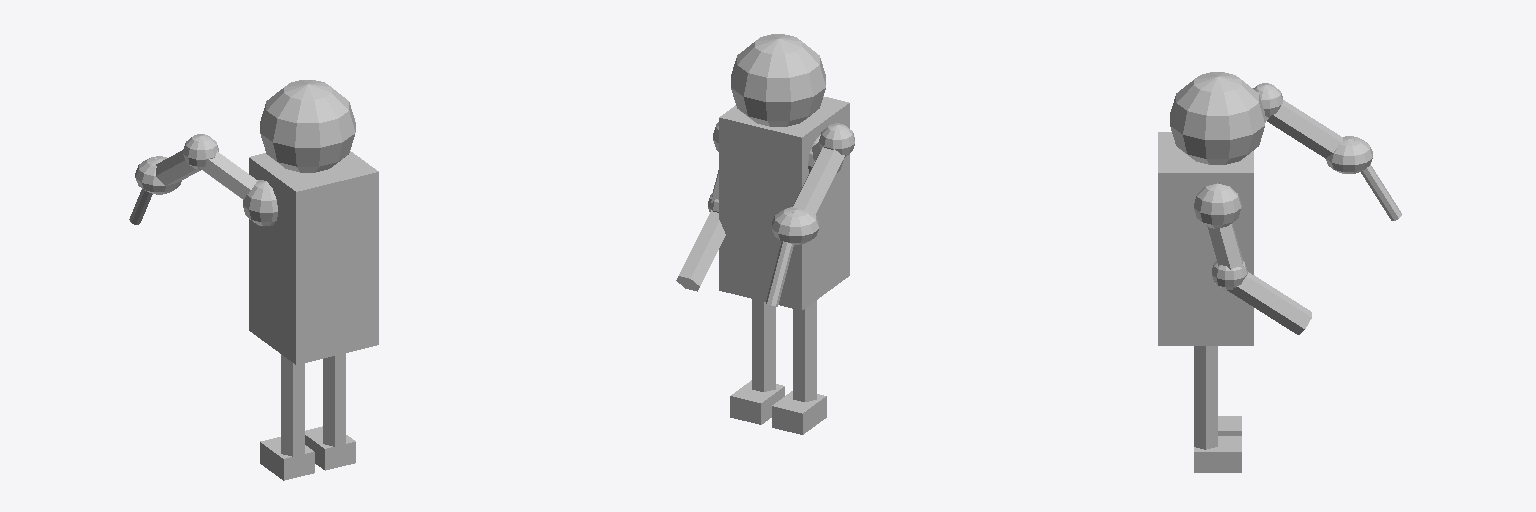
Rendered from statue.obj.
3 renders of one model, left to right at view 1: azimuth 30°, elevation 25°; view 2: azimuth 150°, elevation 25°; view 3: azimuth 270°, elevation 25°, orthographic.
Parts seen in each view (by area): view 1: body, head.002, cuboid, cylinder.001, cuboid.001, cylinder.004, cylinder.005, head, cylinder.002, sphere.001, sphere, cylinder.007 (+1 smaller); view 2: body, head.002, cylinder, cuboid, cylinder.007, cuboid.001, sphere, cylinder.004, cylinder.001, cylinder.002, sphere.001, cylinder.008 (+1 smaller); view 3: body, head.002, cylinder, cylinder.007, head.001, cuboid.001, cylinder.004, sphere, cylinder.003, cylinder.006, cylinder.008, sphere.002 (+1 smaller).
Boxes of the visible parts, x1=… form: body: x1=249, y1=151, x2=378, y2=364; head.002: x1=260, y1=80, x2=355, y2=172; cuboid: x1=260, y1=437, x2=314, y2=480; cylinder.001: x1=281, y1=400, x2=304, y2=456; cuboid.001: x1=305, y1=426, x2=355, y2=470; cylinder.004: x1=323, y1=390, x2=345, y2=446; cylinder.005: x1=199, y1=151, x2=257, y2=199; head: x1=243, y1=180, x2=277, y2=225; cylinder.002: x1=281, y1=354, x2=304, y2=402; sphere.001: x1=183, y1=134, x2=218, y2=169; sphere: x1=135, y1=156, x2=181, y2=194; cylinder.007: x1=156, y1=150, x2=200, y2=185; body: x1=719, y1=96, x2=849, y2=310; head.002: x1=731, y1=34, x2=825, y2=126; cylinder: x1=676, y1=210, x2=725, y2=291; cuboid: x1=772, y1=391, x2=826, y2=434; cylinder.007: x1=793, y1=147, x2=844, y2=214; cuboid.001: x1=730, y1=380, x2=784, y2=424; sphere: x1=772, y1=207, x2=818, y2=244; cylinder.004: x1=752, y1=335, x2=775, y2=391; cylinder.001: x1=793, y1=346, x2=816, y2=401; cylinder.002: x1=793, y1=300, x2=816, y2=347; sphere.001: x1=819, y1=123, x2=854, y2=157; cylinder.008: x1=766, y1=212, x2=793, y2=306; body: x1=1158, y1=132, x2=1253, y2=345; head.002: x1=1170, y1=72, x2=1264, y2=164; cylinder: x1=1227, y1=272, x2=1311, y2=334; cylinder.007: x1=1267, y1=100, x2=1342, y2=158; head.001: x1=1194, y1=183, x2=1241, y2=228; cuboid.001: x1=1194, y1=436, x2=1241, y2=472; cylinder.004: x1=1194, y1=393, x2=1217, y2=449; sphere: x1=1326, y1=136, x2=1372, y2=173; cylinder.003: x1=1194, y1=346, x2=1217, y2=395; cylinder.006: x1=1207, y1=224, x2=1243, y2=270; cylinder.008: x1=1353, y1=139, x2=1401, y2=220; sphere.002: x1=1212, y1=261, x2=1247, y2=289.
Bounding box in the file's own units: 1 × 2.19 × 1.28.